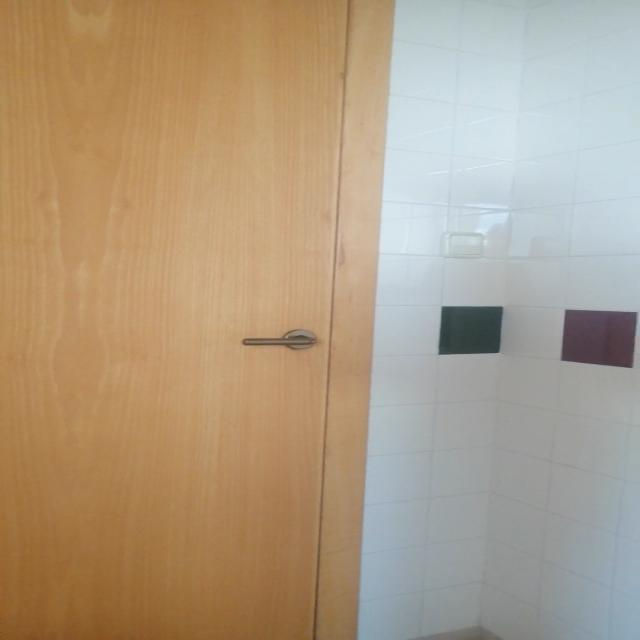door_handle: (239, 334, 319, 347)
